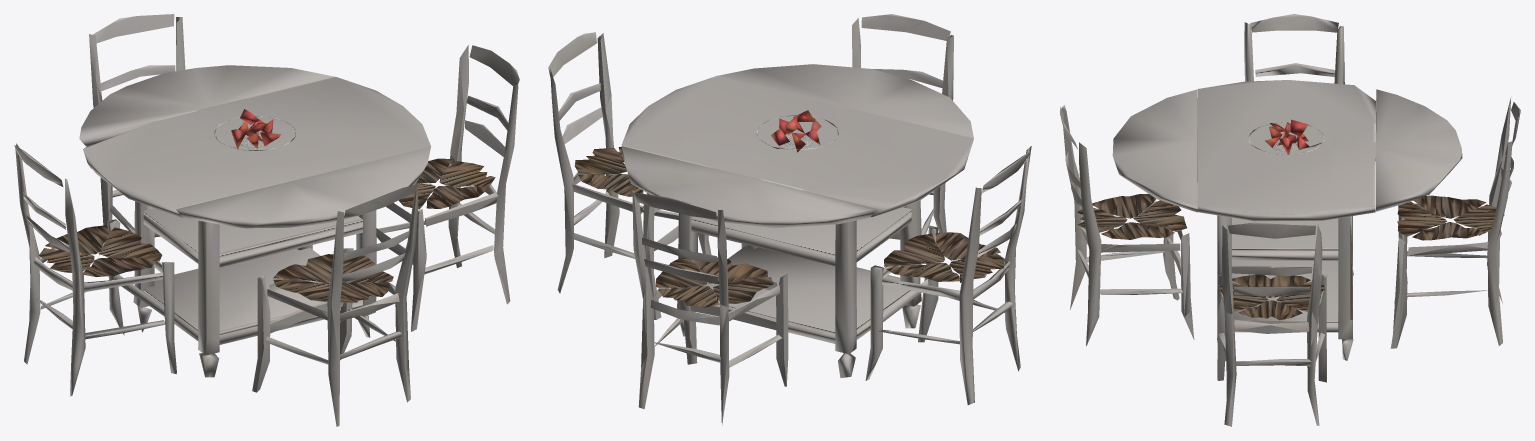
File: DiningTable0008.obj
3 views of the same model, side by side, from view 1: azimuth 30°, elevation 25°; view 2: azimuth 150°, elevation 25°; view 3: azimuth 270°, elevation 25° (orthographic). The views are drawn at different scales.
Bounding box in the file's own units: 2.02 × 0.959 × 1.89.
1 material, 1 textured.
